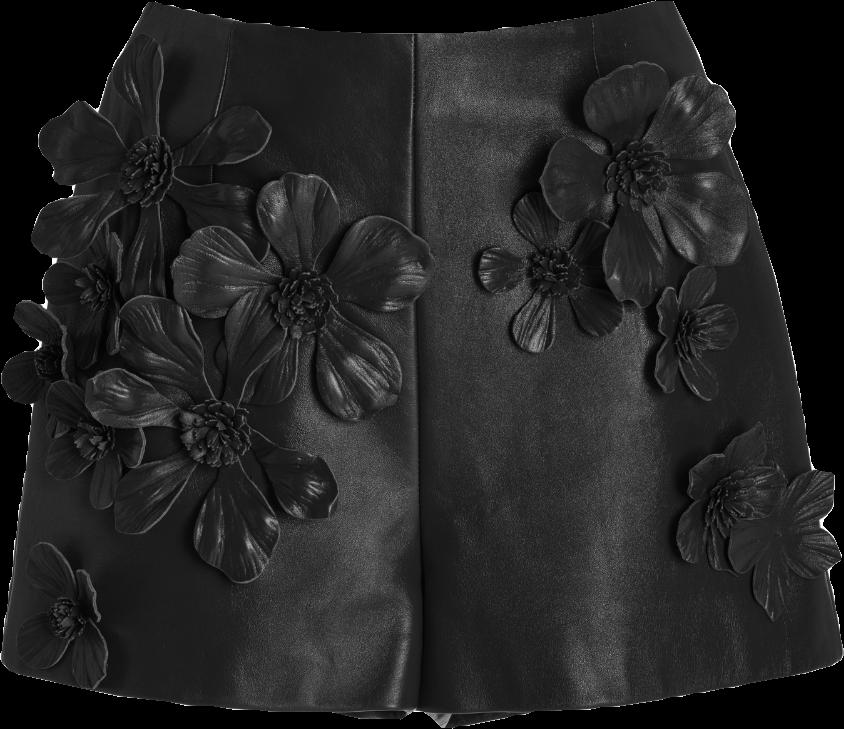Hemline: (429, 648, 843, 719), (0, 656, 418, 719)
Pantleg: (413, 2, 843, 727), (1, 2, 421, 720)
Waistline: (146, 0, 676, 44)
